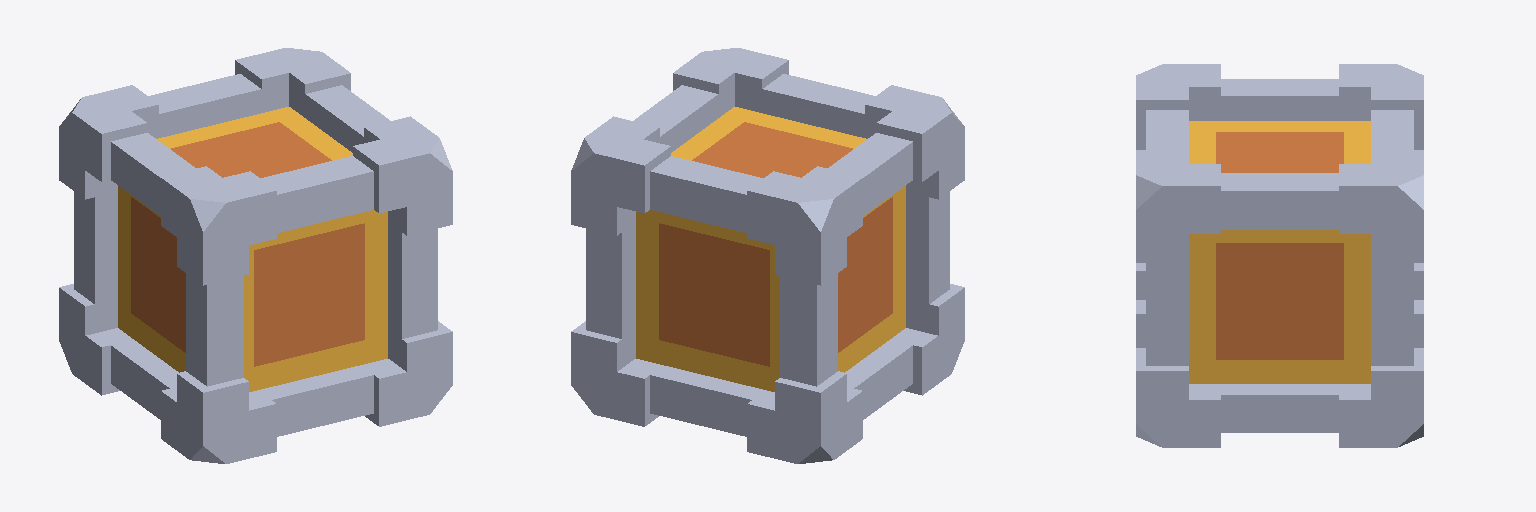
File: crateItemStrong.obj
The picture shows the model from 3 angles: view 1: azimuth 30°, elevation 25°; view 2: azimuth 150°, elevation 25°; view 3: azimuth 270°, elevation 25°; orthographic projection.
Visible parts, largest first — view 1: crateItemStrong; view 2: crateItemStrong; view 3: crateItemStrong.
Boxes of the visible parts, box(x1,y1,x2,y2) form: crateItemStrong: box(59, 48, 452, 463); crateItemStrong: box(571, 48, 964, 463); crateItemStrong: box(1136, 64, 1423, 447).
Bounding box in the file's own units: 0.54 × 0.54 × 0.54.